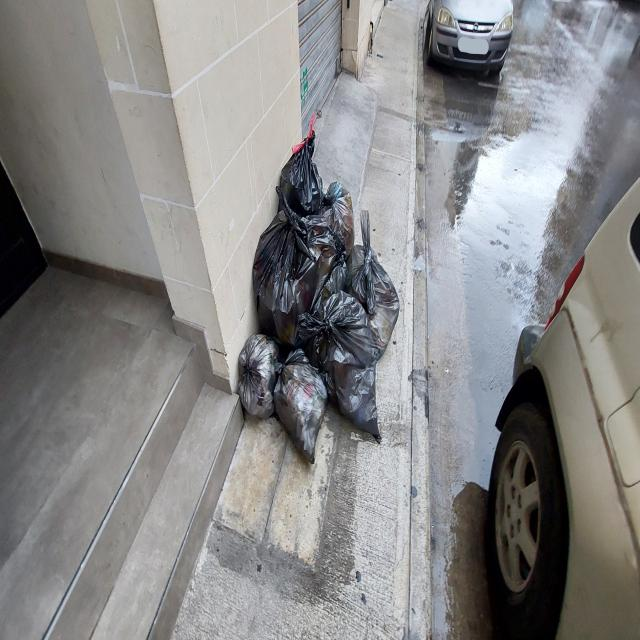Mixed Waste -Black Bag-: (298, 292, 383, 446), (254, 186, 324, 363), (346, 211, 401, 364), (274, 348, 329, 466), (278, 113, 324, 220), (239, 334, 279, 420), (319, 182, 356, 264)
